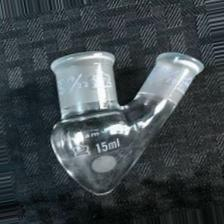Pear shaped flask: (31, 45, 204, 203)
